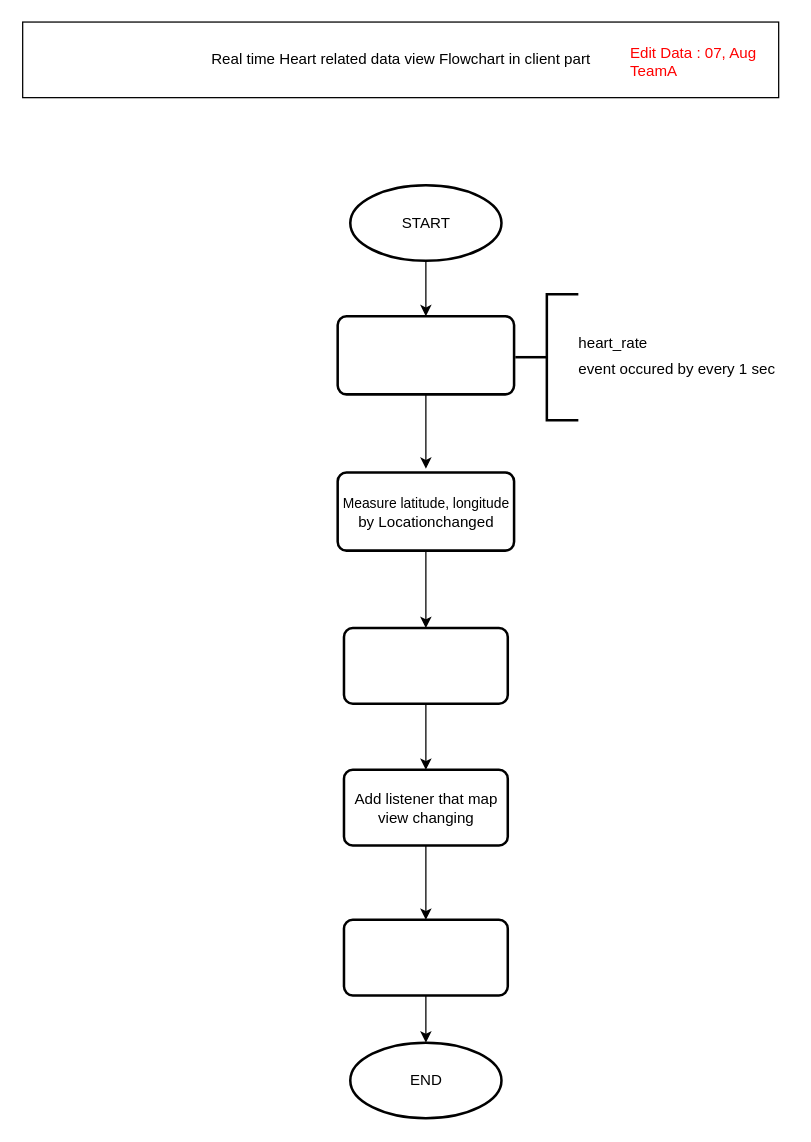
The diagram is 811 pixels wide and 1142 high, and some of its shapes have lost their labels. The shapes that lost their labels are listed below. From the top down, each one's centre as x and y in pixels, then its label:
At (425,354): "Receive data from sensor by 1 sec".
At (425,665): "Google map Setting process".
At (425,957): "Set marker using latitude, longitude".
